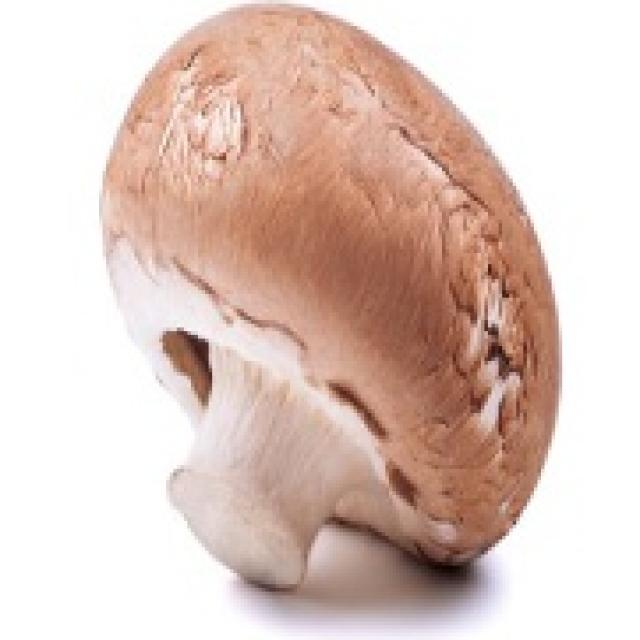mushroom: (92, 0, 555, 610)
